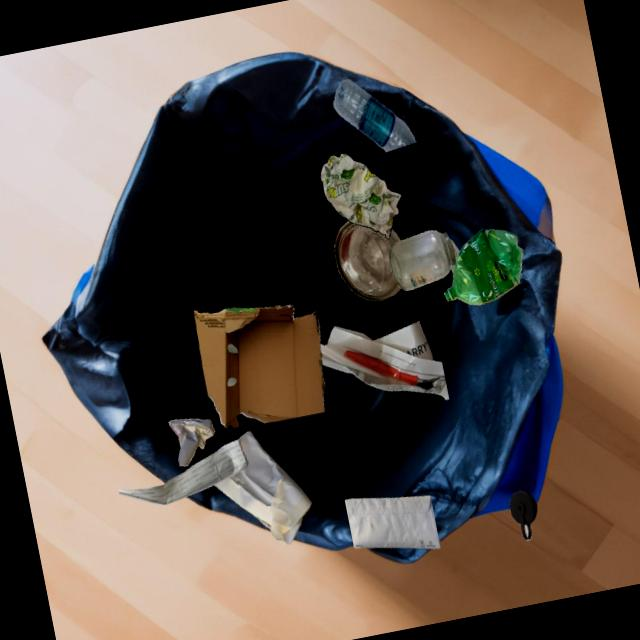cardboard: (193, 305, 325, 429)
glass: (335, 221, 401, 301), (389, 230, 456, 291)
paper: (214, 431, 312, 544), (320, 321, 449, 400), (119, 439, 248, 505), (321, 154, 402, 239), (345, 496, 441, 549), (168, 419, 215, 466)
plastic: (334, 79, 417, 152), (444, 229, 523, 305), (509, 490, 537, 540), (450, 239, 460, 259)
